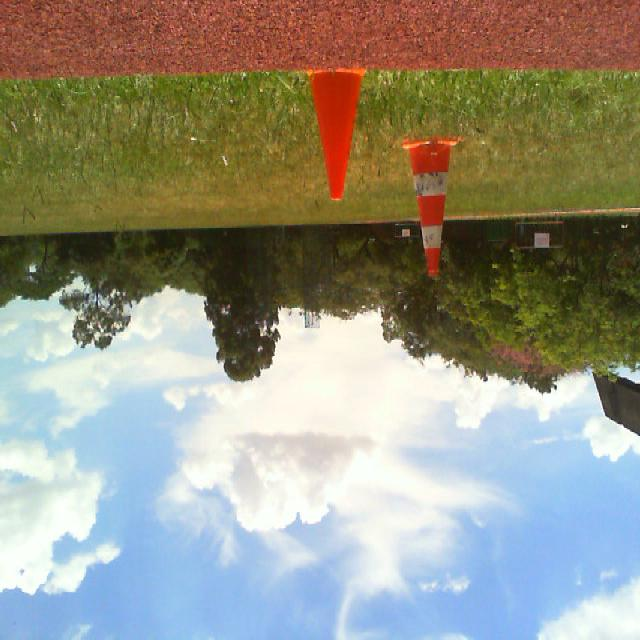cone: (398, 137, 460, 279), (305, 68, 364, 201)
